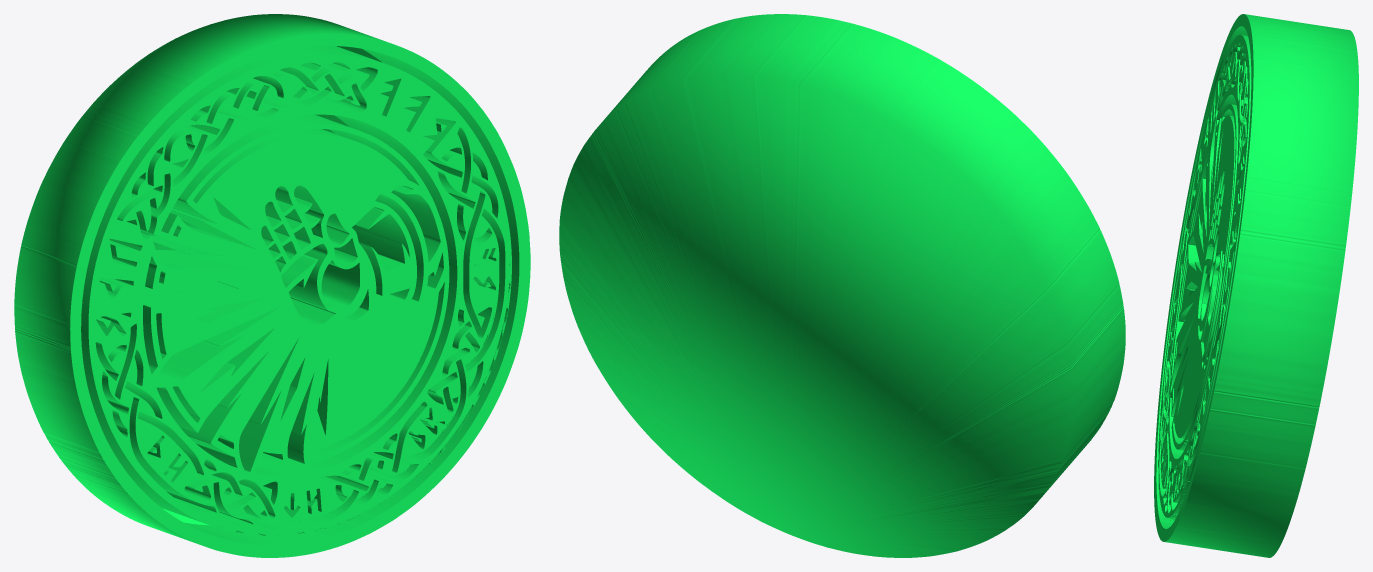
File: push_token.fbx
3 renders of one model, left to right at view 1: azimuth 30°, elevation 25°; view 2: azimuth 150°, elevation 25°; view 3: azimuth 270°, elevation 25°, orthographic. The views are drawn at different scales.
Visible parts, largest first — view 1: token; view 2: token; view 3: token.
Part boxes in pixels (x1=…): token: x1=14, y1=14, x2=530, y2=557; token: x1=559, y1=14, x2=1125, y2=557; token: x1=1154, y1=14, x2=1358, y2=557.
Bounding box in the file's own units: 1910 × 1903 × 716.
